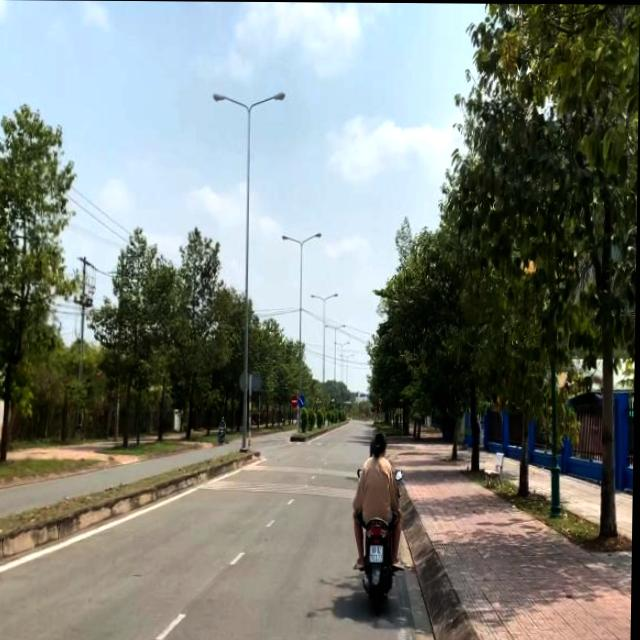Cam di nguoc chieu: (292, 395, 298, 407)
Vong chuong ngai vat sang phai: (300, 394, 306, 407)
